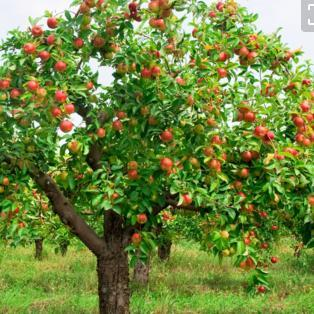apple: (115, 62, 129, 77), (160, 157, 173, 170), (208, 158, 220, 172), (254, 125, 267, 137), (54, 60, 67, 72), (21, 42, 35, 53), (26, 80, 38, 92), (127, 160, 138, 170)
